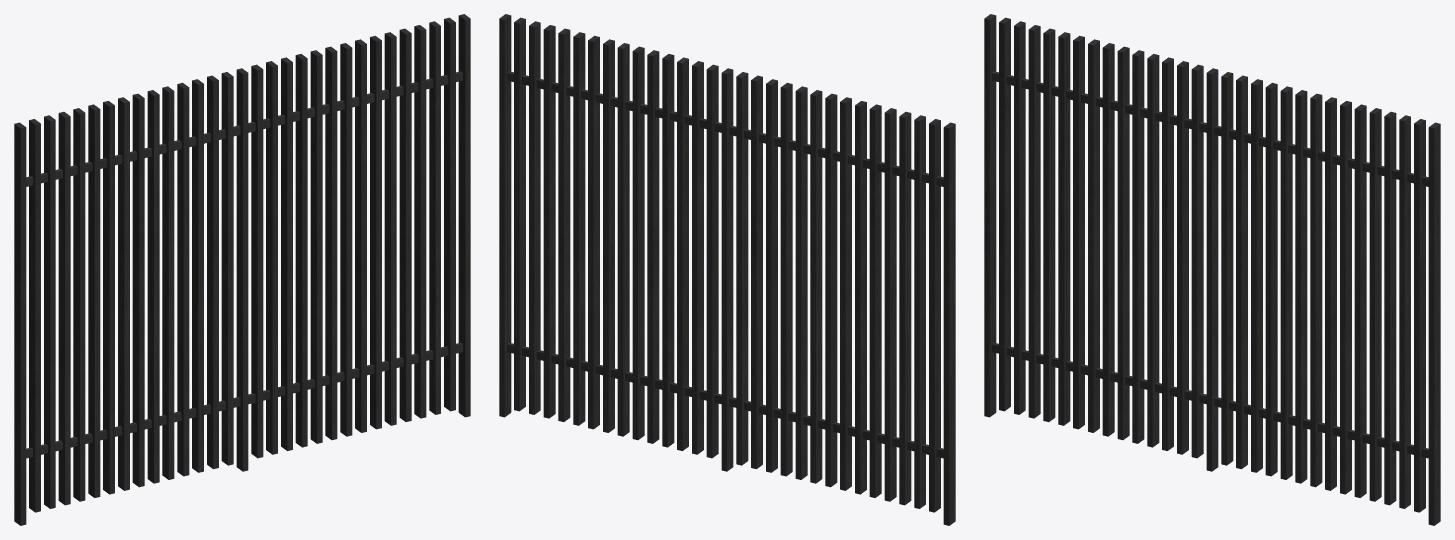
Rendered from sg-reversible-s50_h2000_chacoalgrey.fbx.
The picture shows the model from 3 angles, left to right: view 1: azimuth 30°, elevation 25°; view 2: azimuth 150°, elevation 25°; view 3: azimuth 330°, elevation 25°; orthographic projection.
Visible parts, largest first — view 1: sg-reversible-s50_h2000_chacoalgray_2span; view 2: sg-reversible-s50_h2000_chacoalgray_2span; view 3: sg-reversible-s50_h2000_chacoalgray_2span.
Part boxes in pixels (x1,y1,x2,y2): sg-reversible-s50_h2000_chacoalgray_2span: (14,14,470,525); sg-reversible-s50_h2000_chacoalgray_2span: (499,14,955,525); sg-reversible-s50_h2000_chacoalgray_2span: (984,14,1440,525).
Bounding box in the file's own units: 243 × 205 × 6.
Materials: 1 (1 with a texture image).
